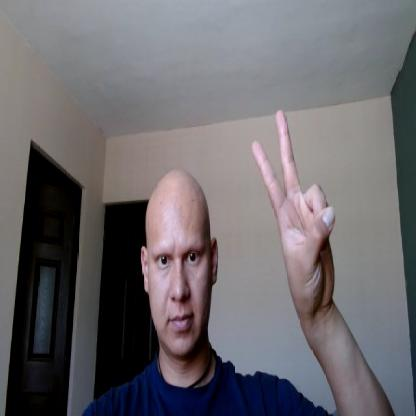V: (252, 106, 336, 306)
